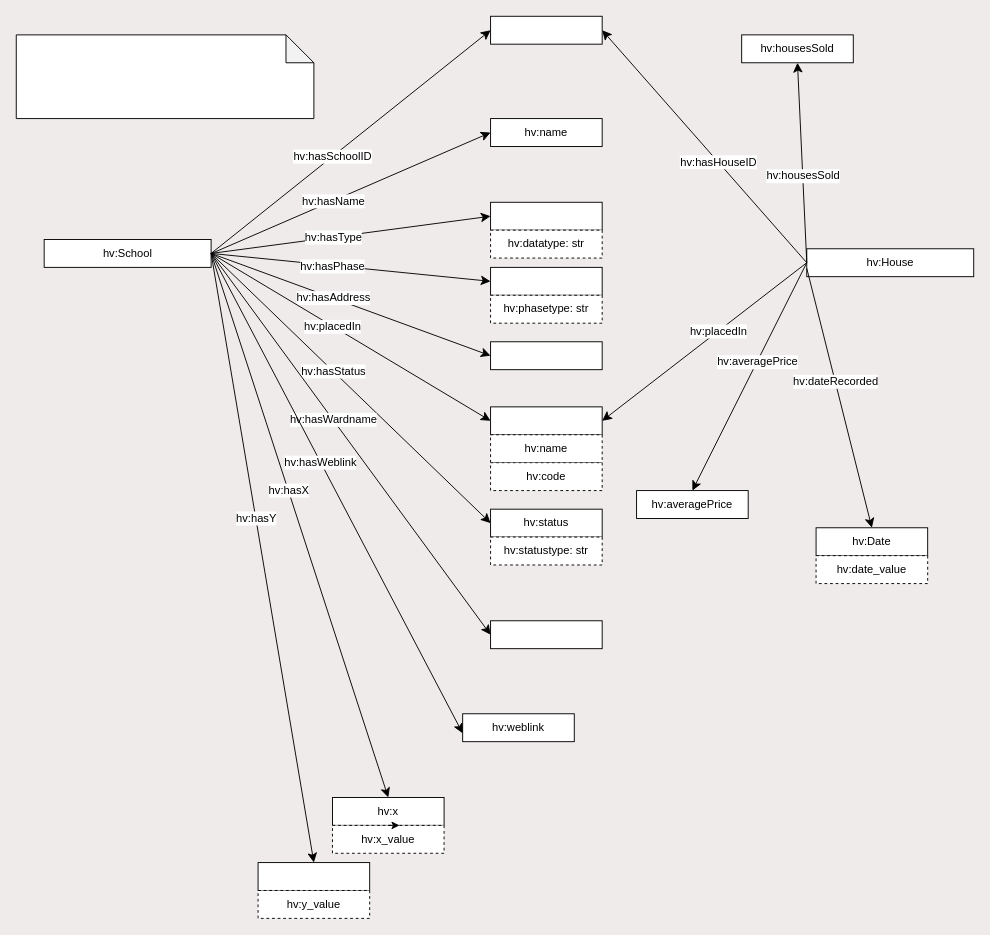
Some shapes in this 990 by 935 pixel diagram are drawn without their labels. Each missing label, with the box of its shape:
hf: http://londonschool.linkeddata.es/school/ontology: (15, 34, 314, 119)
hv:address: (490, 341, 602, 370)
hv:id: (490, 15, 602, 44)
hv:phase: (490, 266, 602, 295)
hv:town: (490, 406, 602, 435)
hv:type: (490, 201, 602, 230)
hv:wardname: (490, 620, 602, 649)
hv:y: (257, 862, 370, 890)
